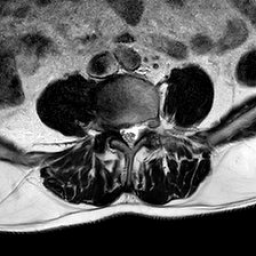CCS_normal: (126, 115, 133, 157)
LFS_normal: (141, 110, 150, 141)
LLS_normal: (133, 116, 141, 149)
RFS_severe_stenosis: (110, 113, 118, 140)
RLS_normal: (118, 116, 126, 148)
